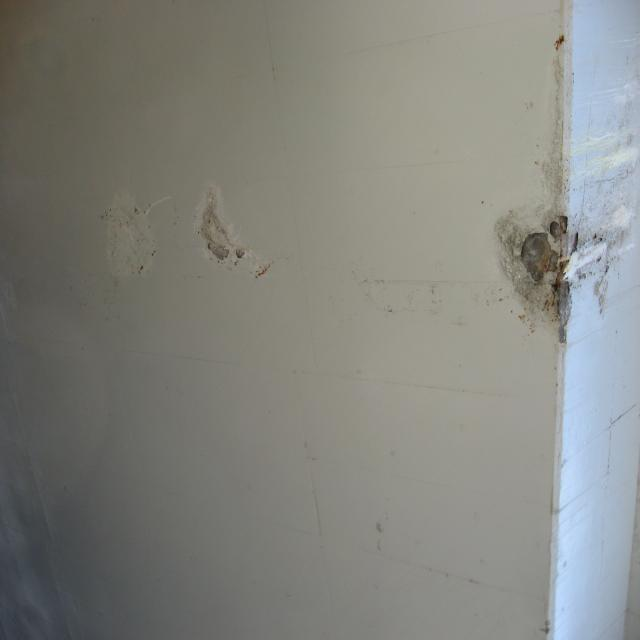corrosion: (146, 85, 250, 214), (138, 483, 211, 605), (24, 90, 41, 116), (102, 130, 126, 143), (273, 106, 300, 117)
